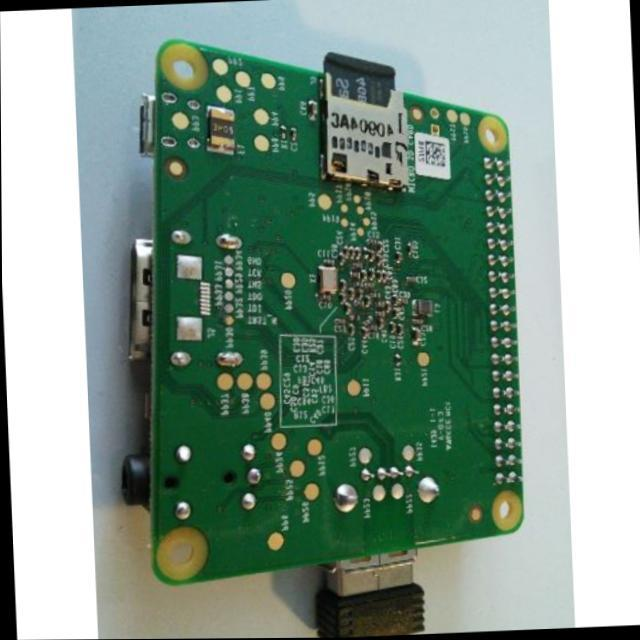Raspberry-Pi-1-A-: (142, 40, 524, 585)
